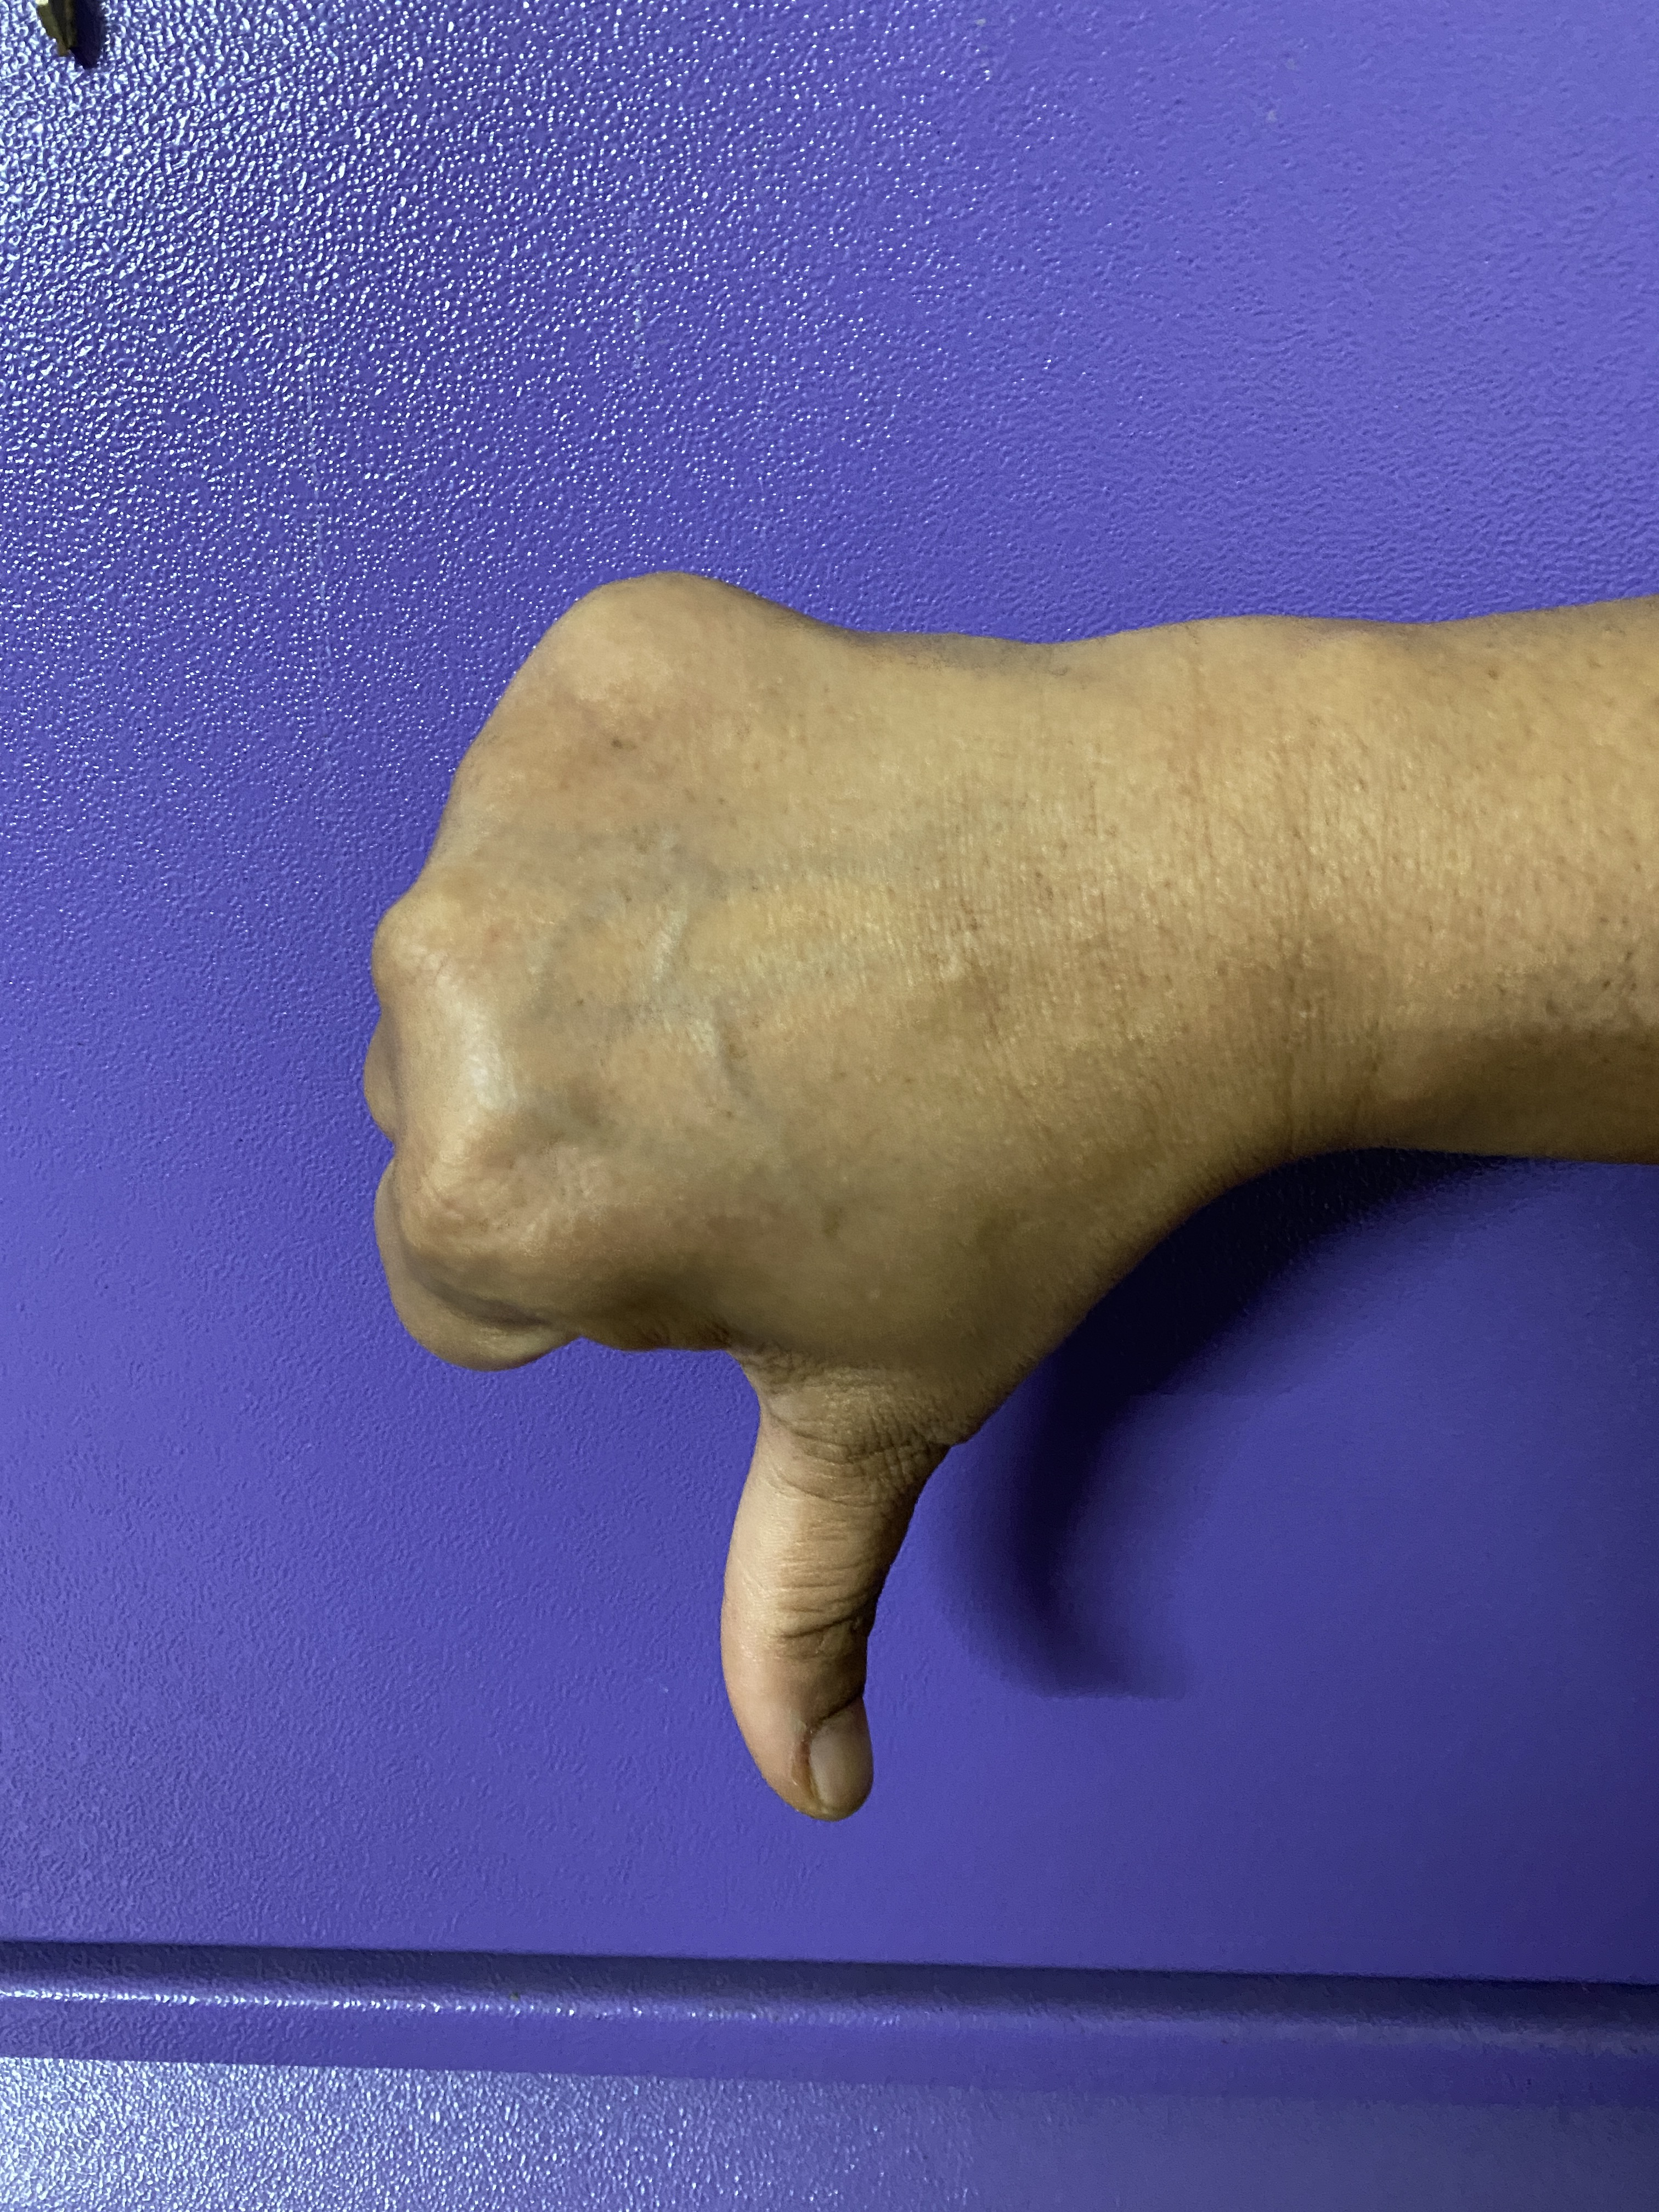down: (237, 442, 1659, 1838)
